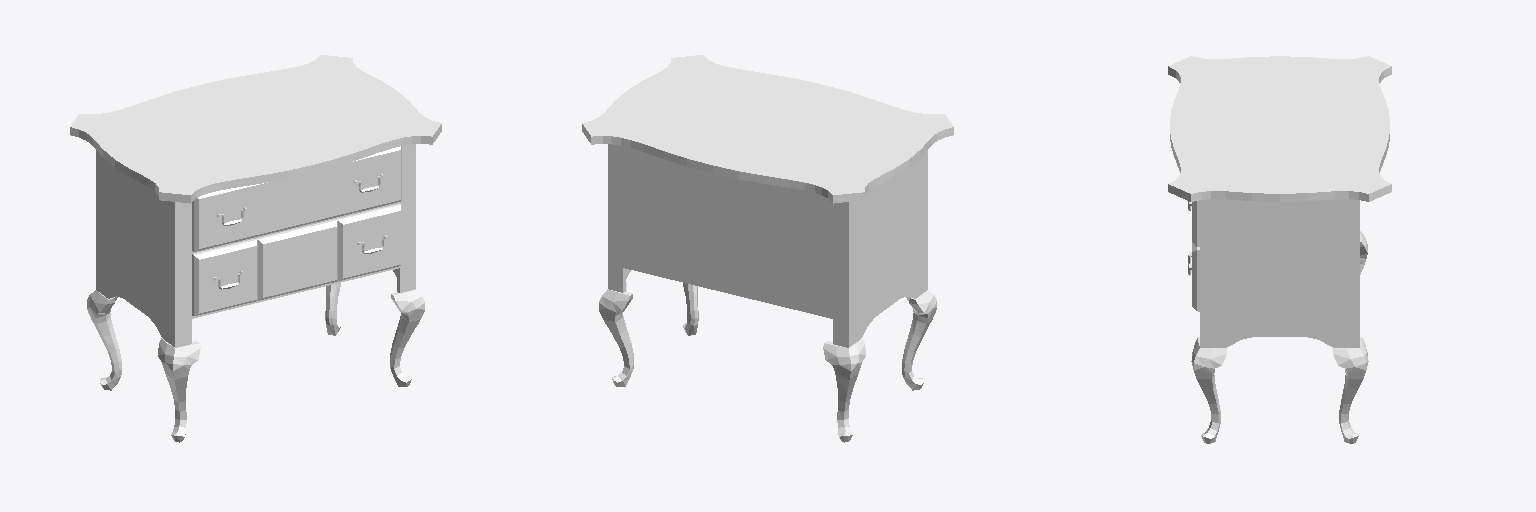
The model's file is asylum_table01.obj.
The picture shows the model from 3 angles: view 1: azimuth 30°, elevation 25°; view 2: azimuth 150°, elevation 25°; view 3: azimuth 270°, elevation 25°; orthographic projection.
Parts seen in each view (by area): view 1: Asylum_Table01_1; view 2: Asylum_Table01_1; view 3: Asylum_Table01_1.
Part boxes in pixels (bbox=[...]): Asylum_Table01_1: bbox=[70, 55, 441, 442]; Asylum_Table01_1: bbox=[582, 55, 953, 442]; Asylum_Table01_1: bbox=[1168, 56, 1391, 443].
Size of the model in its own units: 75.56 by 66.8 by 51.78.